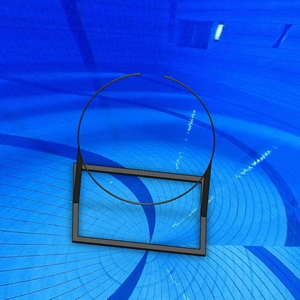circle: (71, 71, 217, 258)
